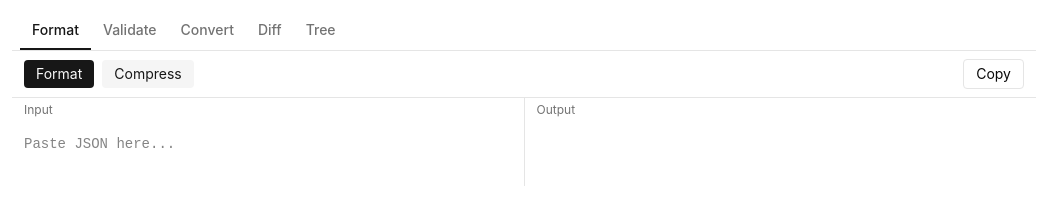
Test: JsonFormatterPanel › Validate view shows error for invalid JSON
What coordinates should you click on to do the following:
click the button with test id "tab-validate"
I would click on:
 (130, 31)
Its box is [91, 12, 169, 50].
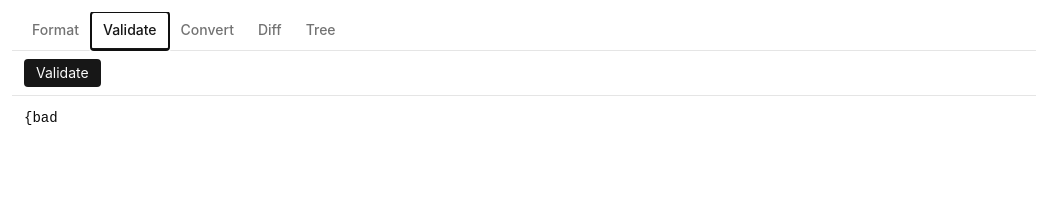
What coordinates should you click on to do the following:
click the button with test id "btn-validate"
I would click on:
 (62, 73)
Its box is [24, 59, 101, 87].
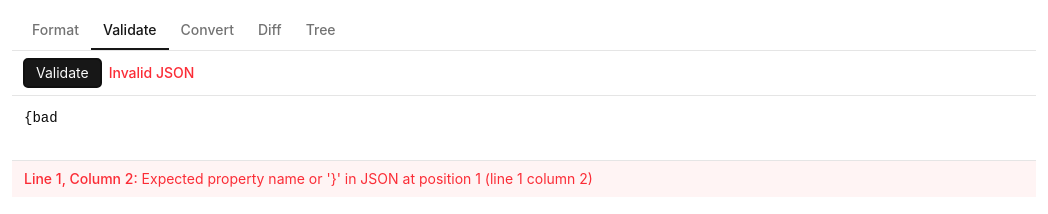
Expected: the text with test id "validation-indicator" reads "Invalid JSON", [109, 64, 194, 81]
Expected: the element with test id "validation-error" is shown, [12, 160, 1036, 197]
